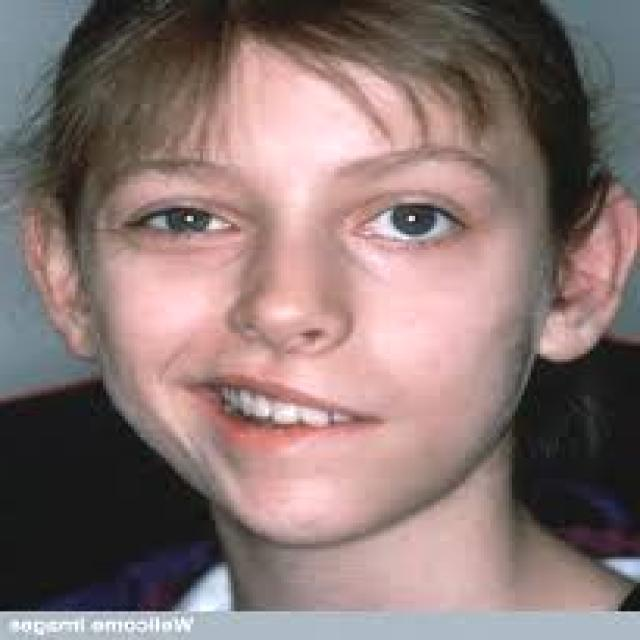stroke_face: (70, 6, 554, 539)
